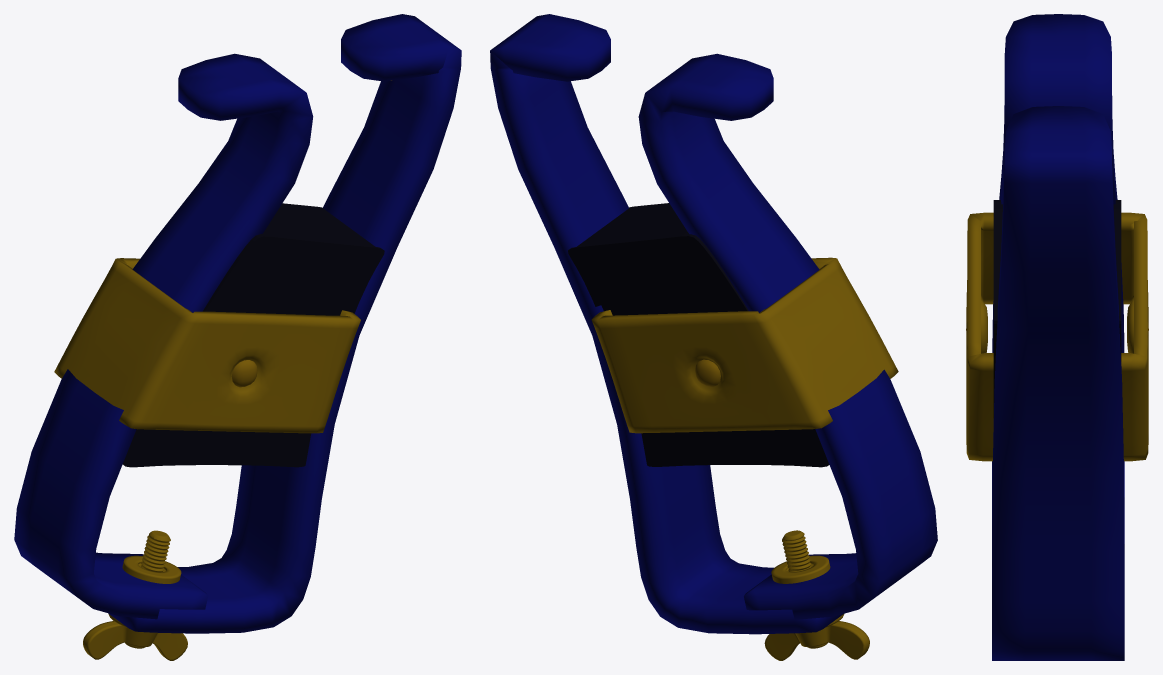
The model's file is grip_03.fbx.
3 renders of one model, left to right at view 1: azimuth 30°, elevation 25°; view 2: azimuth 150°, elevation 25°; view 3: azimuth 270°, elevation 25°, orthographic. The views are drawn at different scales.
Parts seen in each view (by area): view 1: Plane.055; view 2: Plane.055; view 3: Plane.055.
Boxes of the visible parts, left/top/right/bottom form: Plane.055: left=14, top=14, right=461, bottom=660; Plane.055: left=490, top=14, right=937, bottom=660; Plane.055: left=966, top=14, right=1148, bottom=660.
Bounding box in the file's own units: 31.77 × 43.63 × 11.08.
